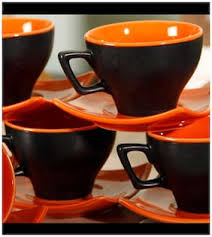cup: (56, 19, 212, 117)
